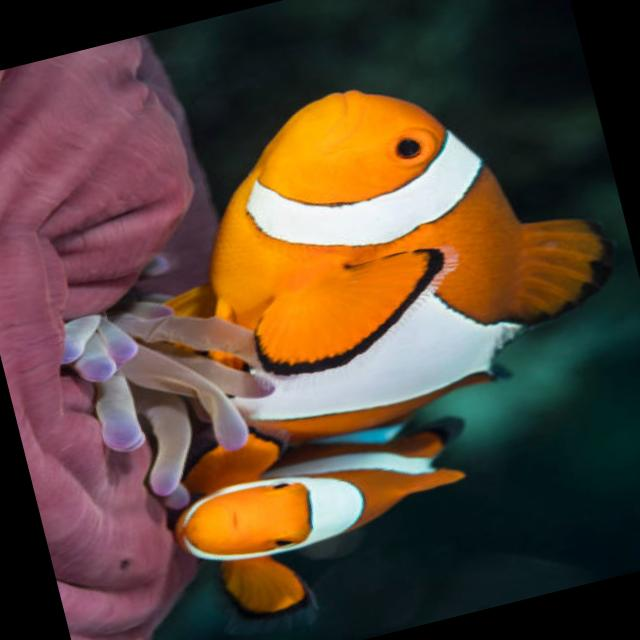ClownFish: (136, 31, 635, 461), (144, 384, 507, 640)
